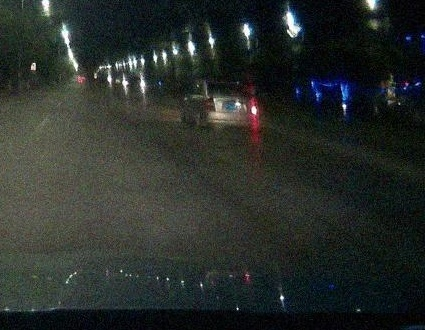L_light: (205, 97, 216, 111)
R_light: (248, 100, 258, 115)
T_light: (222, 82, 233, 85)
night-right: (202, 79, 258, 130)
